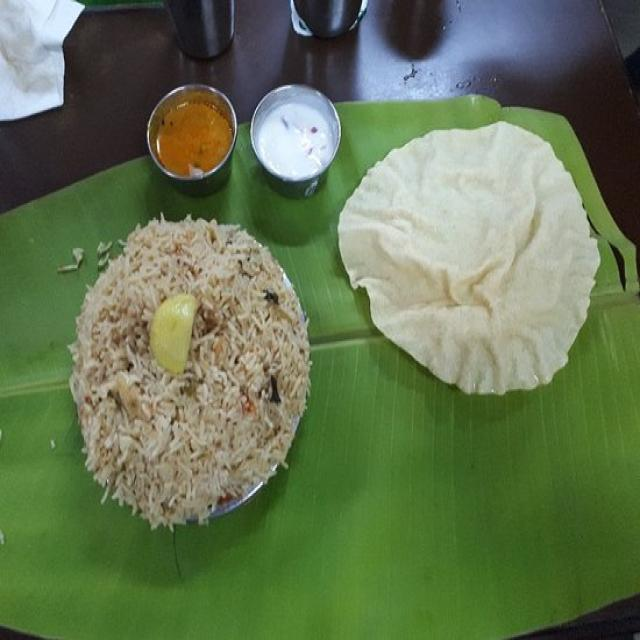non veg meals: (54, 74, 606, 549)
